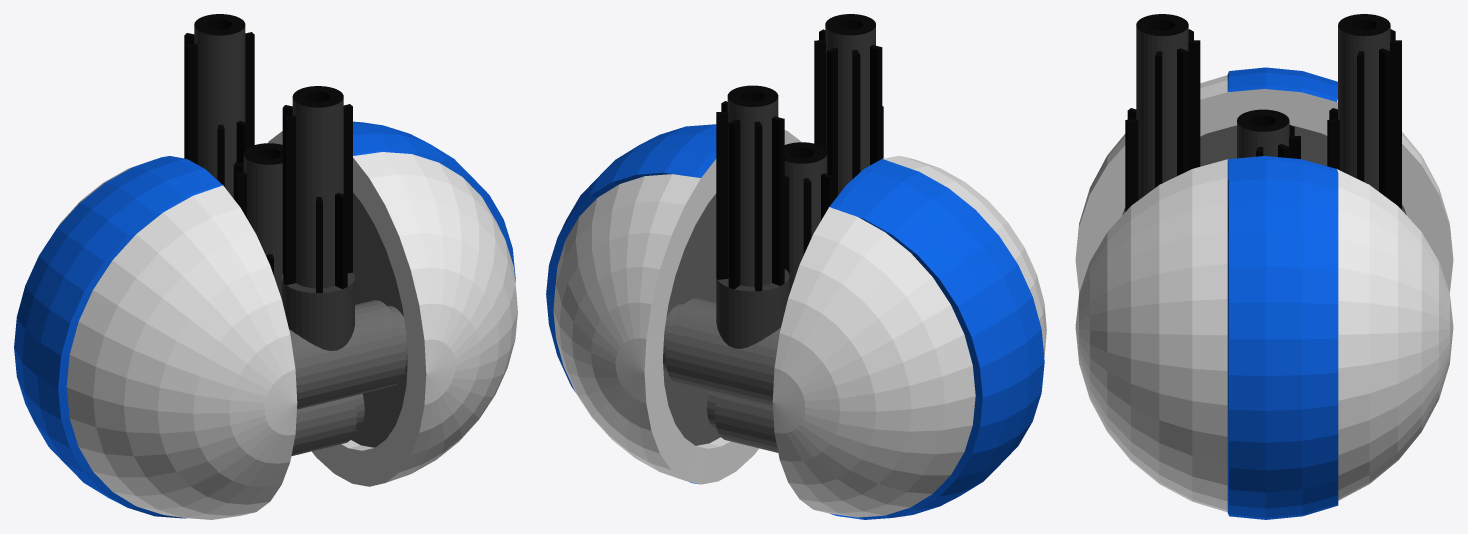
File: Tower Baixa C.fbx
3 views of the same model, side by side, from view 1: azimuth 30°, elevation 25°; view 2: azimuth 150°, elevation 25°; view 3: azimuth 270°, elevation 25° (orthographic). The views are drawn at different scales.
Parts seen in each view (by area): view 1: Corpo; view 2: Corpo; view 3: Corpo.
Part boxes in pixels (x1,y1,x2,y2): Corpo: (14, 14, 517, 519); Corpo: (546, 14, 1046, 519); Corpo: (1075, 14, 1453, 519).
Size of the model in its own units: 291 by 257 by 200.
